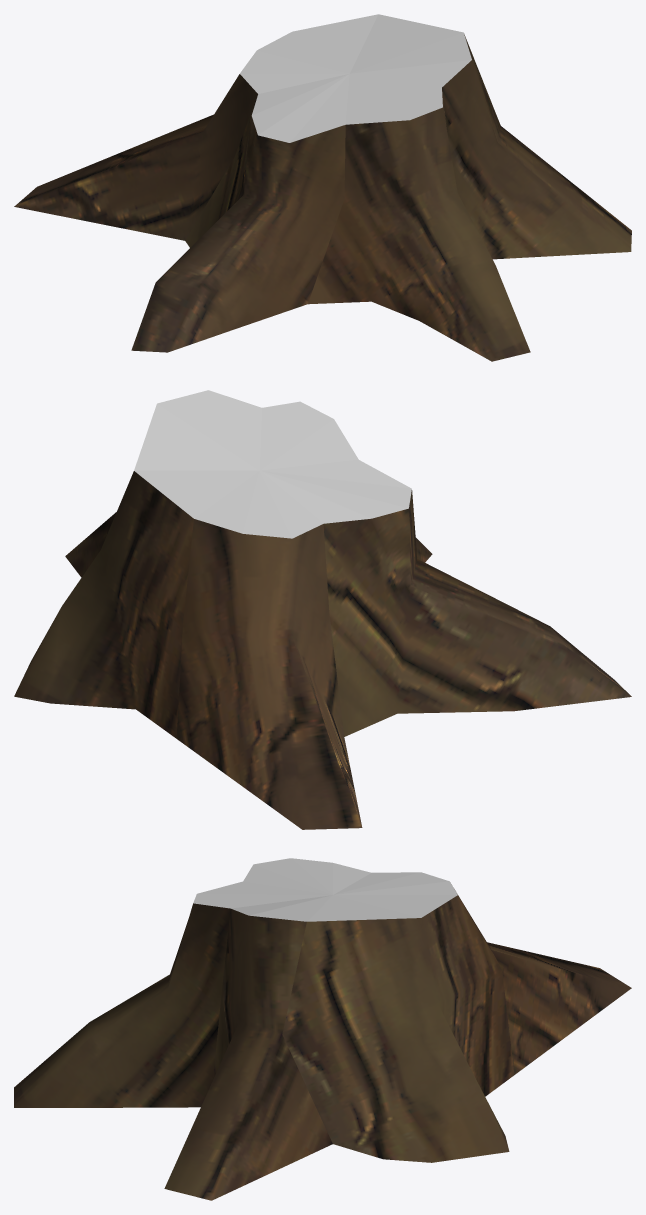
File: 2_Plant_ShuGen_01.FBX
3 renders of one model, top to bottom at view 1: azimuth 30°, elevation 25°; view 2: azimuth 150°, elevation 25°; view 3: azimuth 270°, elevation 25°, orthographic. The views are drawn at different scales.
Visible parts, largest first — view 1: 2_Plant_ShuGen_01; view 2: 2_Plant_ShuGen_01; view 3: 2_Plant_ShuGen_01.
Boxes of the visible parts, x1=… form: 2_Plant_ShuGen_01: x1=14, y1=14, x2=631, y2=361; 2_Plant_ShuGen_01: x1=14, y1=390, x2=631, y2=829; 2_Plant_ShuGen_01: x1=14, y1=858, x2=631, y2=1200.
Bounding box in the file's own units: 328 × 129 × 325.
